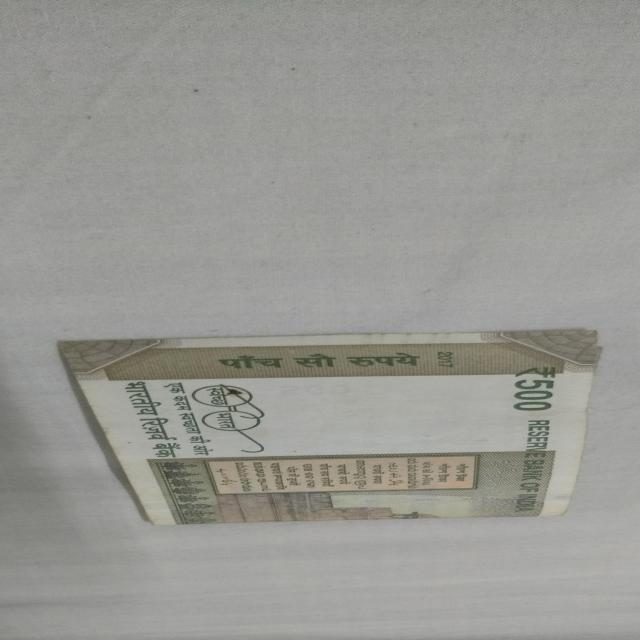Currency: (20, 338, 594, 534)
